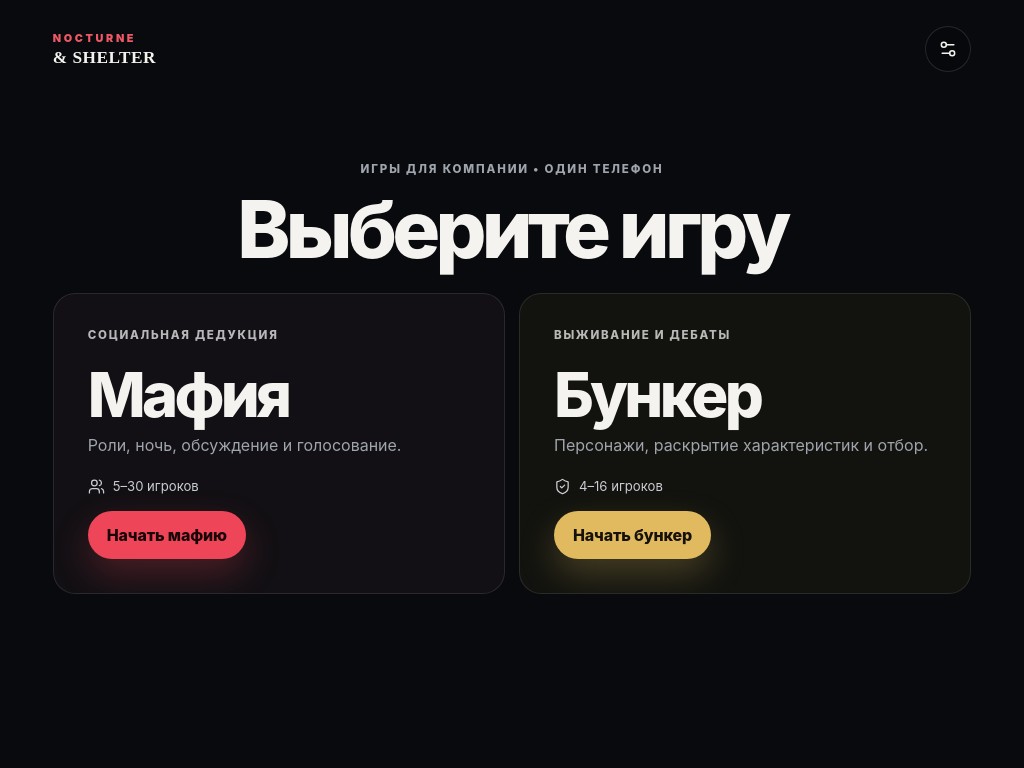
Test: application shell › presents both games and accessible preferences
Expected: the heading "Выберите игру" is shown, x1=237 y1=180 x2=787 y2=277
Expected: the button "Начать мафию" is shown, x1=88 y1=510 x2=246 y2=558
Click the button named "Настройки": (948, 49) x1=925 y1=26 x2=971 y2=72
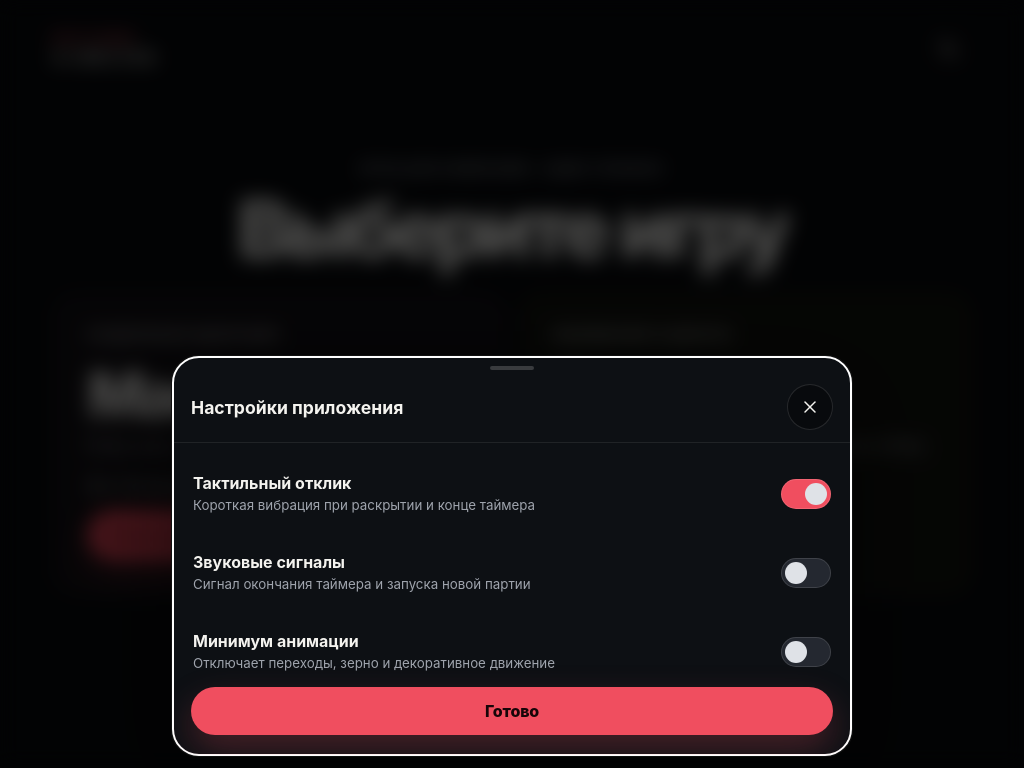
Expected: the dialog "Настройки приложения" is shown, x1=172 y1=356 x2=852 y2=756
Expected: the checkbox labelled "Тактильный отклик" is checked, x1=193 y1=473 x2=831 y2=513
